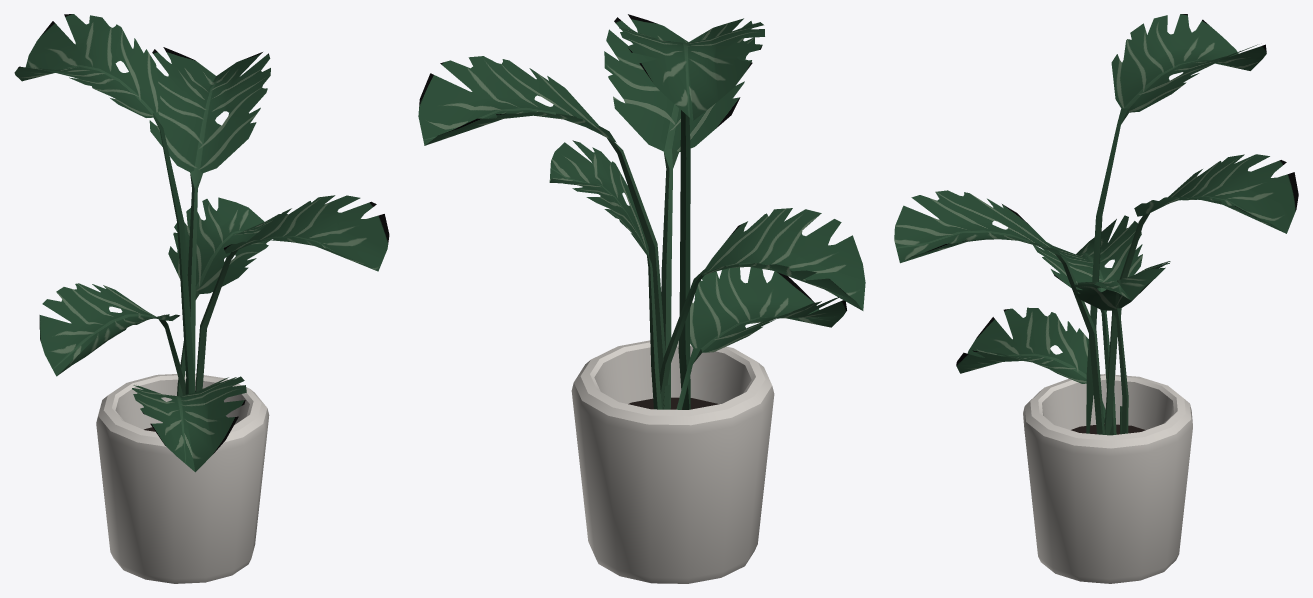
The model's file is officePlant.glb.
3 views of the same model, side by side, from view 1: azimuth 30°, elevation 25°; view 2: azimuth 150°, elevation 25°; view 3: azimuth 270°, elevation 25° (orthographic). The views are drawn at different scales.
Parts seen in each view (by area): view 1: Cylinder.003_0; view 2: Cylinder.003_0; view 3: Cylinder.003_0.
Boxes of the visible parts, x1=… form: Cylinder.003_0: x1=14, y1=14, x2=389, y2=583; Cylinder.003_0: x1=418, y1=14, x2=865, y2=583; Cylinder.003_0: x1=894, y1=14, x2=1298, y2=583.
Size of the model in its own units: 0.944 by 1.54 by 1.14.
3 materials, 1 textured.
